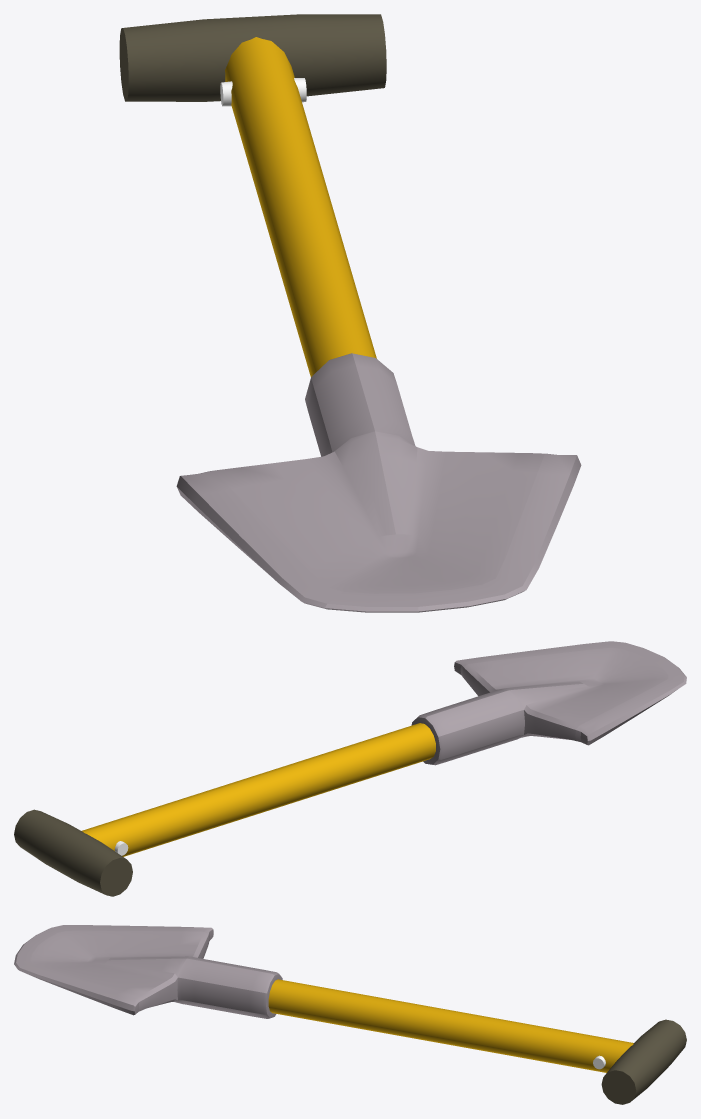
Rendered from sekop kecil.fbx.
3 renders of one model, top to bottom at view 1: azimuth 30°, elevation 25°; view 2: azimuth 150°, elevation 25°; view 3: azimuth 270°, elevation 25°, orthographic. The views are drawn at different scales.
Parts seen in each view (by area): view 1: Circle.022, Cylinder.070, Cylinder.071; view 2: Circle.022, Cylinder.070, Cylinder.071; view 3: Circle.022, Cylinder.070, Cylinder.071.
Boxes of the visible parts, <box> form: Circle.022: <box>176,353,581,612</box>; Cylinder.070: <box>225,37,376,376</box>; Cylinder.071: <box>119,14,386,101</box>; Circle.022: <box>411,641,686,765</box>; Cylinder.070: <box>82,723,435,856</box>; Cylinder.071: <box>14,809,132,896</box>; Circle.022: <box>14,925,282,1018</box>; Cylinder.070: <box>268,979,633,1072</box>; Cylinder.071: <box>601,1019,686,1104</box>.
Size of the model in its own units: 177 by 22.82 by 318.
